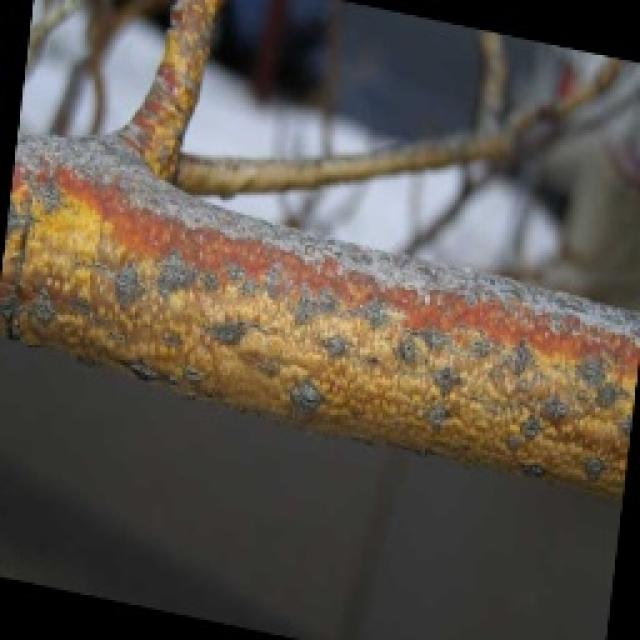Golden_canker: (0, 43, 640, 514)
